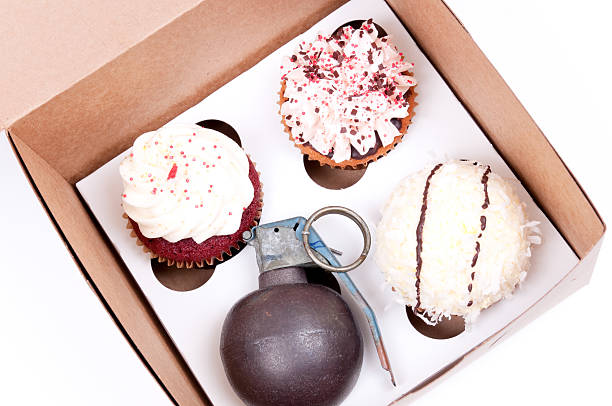e1: (234, 211, 396, 406)
